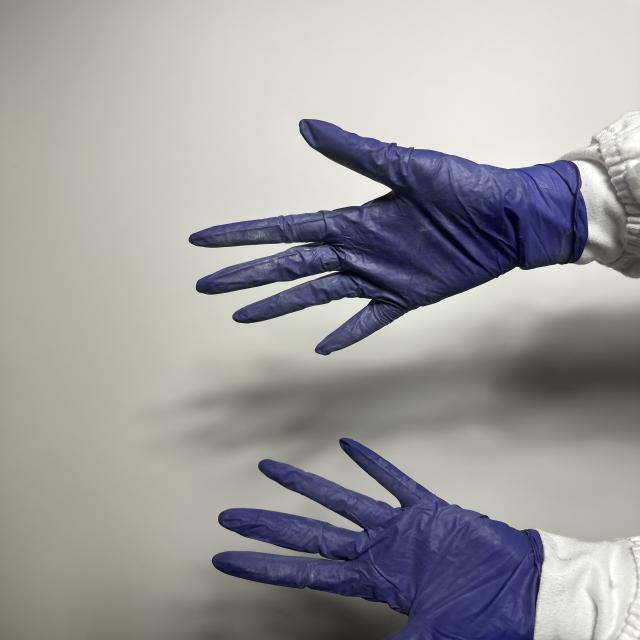gloves_contaminated: (189, 120, 586, 355), (213, 438, 543, 640)
